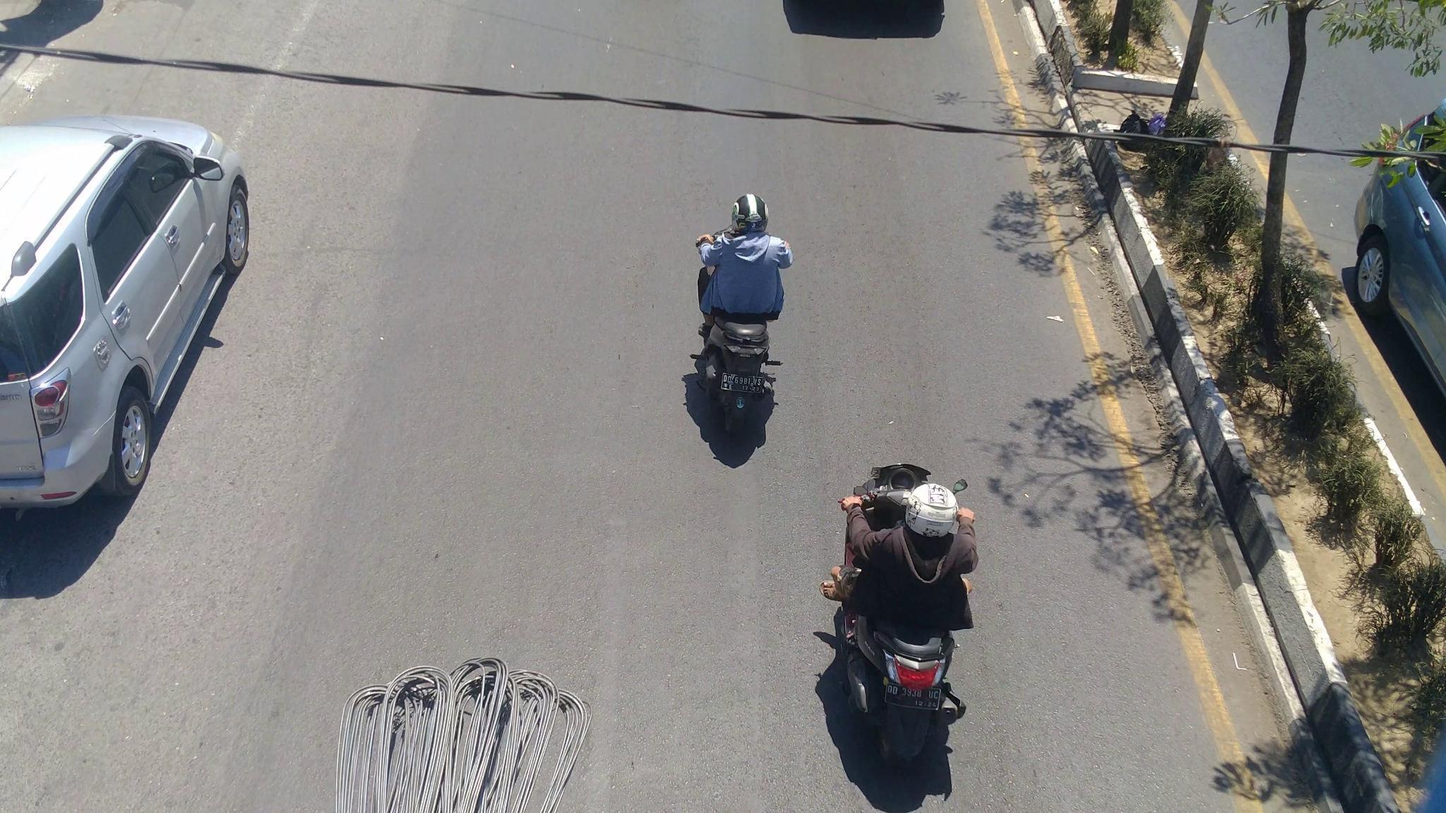Helmet: (899, 477, 965, 552), (726, 188, 773, 244)
bike: (834, 459, 972, 773), (695, 220, 783, 440)
number-plate: (883, 683, 943, 711), (719, 373, 769, 396)
rider: (826, 486, 987, 639), (698, 191, 795, 328)
